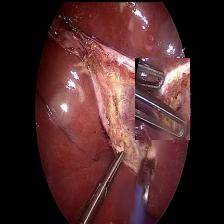Bipolar: (130, 150, 156, 210)
Grasper: (134, 57, 189, 139), (84, 143, 126, 221)
